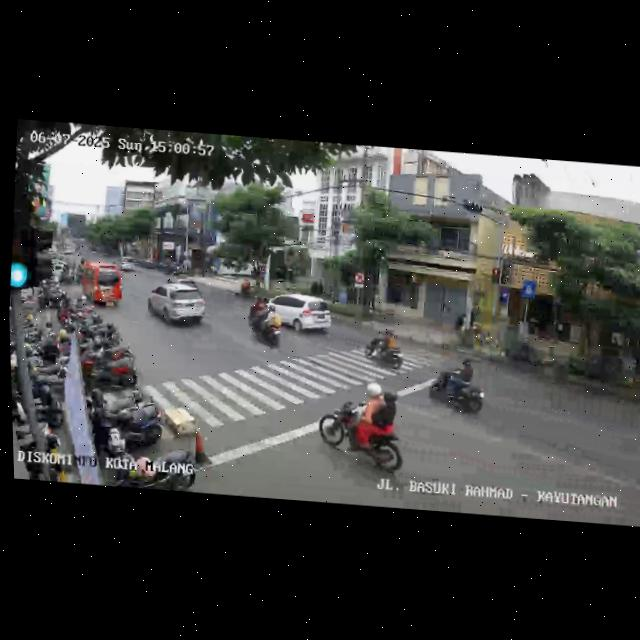car: (259, 290, 334, 337), (144, 280, 209, 334), (75, 260, 124, 309)
motorcycle: (318, 380, 409, 476), (423, 359, 491, 422), (362, 328, 407, 375), (248, 299, 284, 350), (238, 276, 255, 298)
